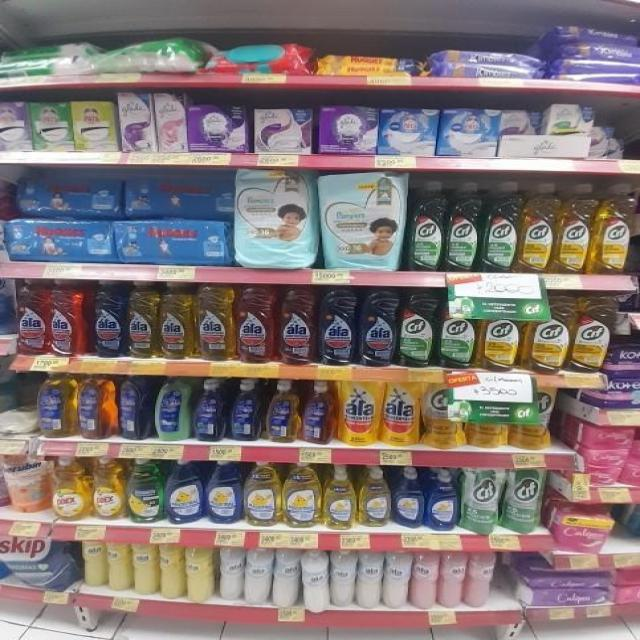ala_conc_amarillo: (196, 284, 235, 361), (160, 281, 195, 360), (127, 281, 159, 359)
ala_conc_azul: (359, 289, 398, 367), (319, 288, 357, 366), (91, 280, 126, 358)
ala_conc_rojo: (236, 285, 276, 364), (278, 287, 317, 366), (49, 279, 87, 357), (16, 278, 48, 356)
ala_crem_amarillo: (186, 544, 215, 602), (159, 540, 184, 600), (132, 540, 158, 596), (108, 540, 132, 591), (82, 539, 106, 588)
ala_crem_blanco: (302, 549, 330, 611), (272, 547, 300, 608), (245, 546, 272, 606), (384, 550, 410, 609), (330, 549, 356, 608), (357, 550, 382, 609), (218, 545, 243, 602)
ala_crem_rosado: (411, 549, 438, 610), (439, 550, 466, 609)
ala_sachet_amarillo: (338, 378, 380, 447), (382, 381, 420, 447)
cif_conc_bot_amarilla: (594, 183, 632, 275), (527, 294, 570, 374), (520, 182, 556, 275), (480, 295, 522, 372), (558, 183, 592, 275), (572, 295, 611, 374), (633, 183, 640, 274)
cif_conc_botella_verde: (446, 180, 482, 273), (408, 180, 444, 272), (483, 181, 519, 273), (439, 293, 477, 370), (399, 290, 436, 368)
cif_conc_sachet_amarillo: (422, 381, 462, 450)
cif_conc_sachet_verde: (503, 467, 544, 533), (462, 467, 500, 534)
magistral_con_amarillo: (283, 462, 321, 529), (244, 462, 281, 527), (324, 465, 356, 530), (358, 466, 391, 528)
magistral_con_azul: (166, 459, 204, 524), (205, 460, 242, 524), (426, 469, 459, 532), (393, 467, 425, 529)
odex: (92, 456, 125, 521)
zorro: (37, 372, 76, 438), (154, 376, 191, 442), (264, 378, 300, 444), (78, 374, 114, 440), (228, 378, 262, 442), (302, 379, 334, 446), (193, 378, 226, 442)
